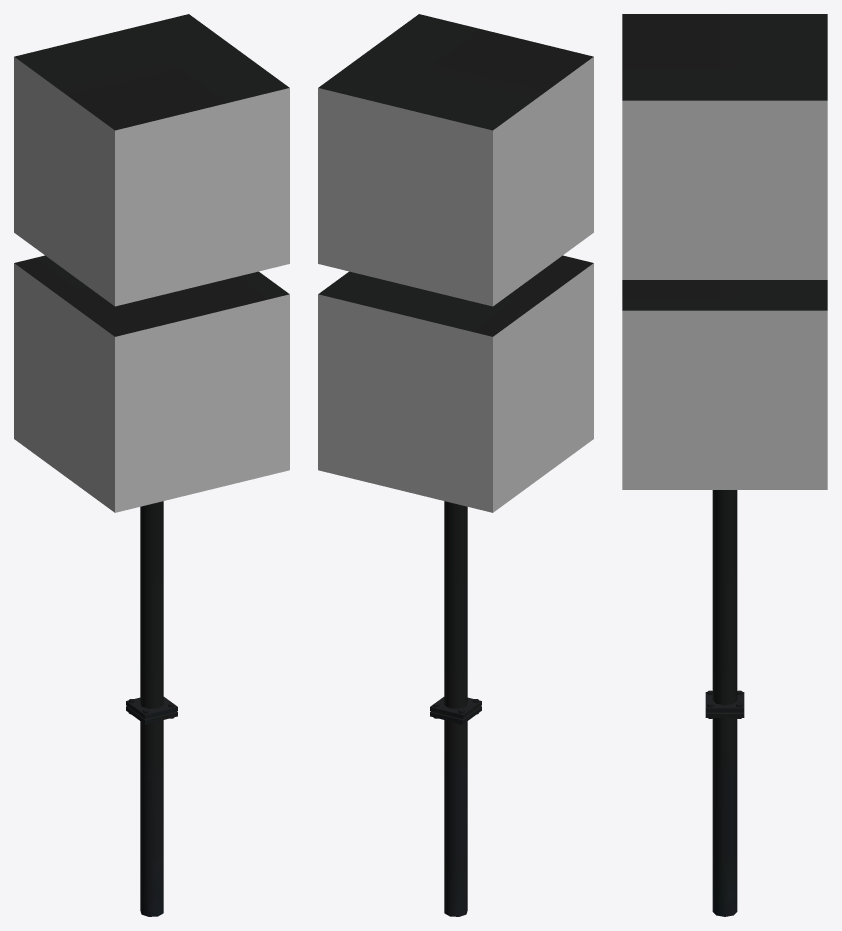
File: Outdoor-i-1.obj
3 views of the same model, side by side, from view 1: azimuth 30°, elevation 25°; view 2: azimuth 150°, elevation 25°; view 3: azimuth 270°, elevation 25° (orthographic).
Parts seen in each view (by area): view 1: Outdoor-I_Cube.010; view 2: Outdoor-I_Cube.010; view 3: Outdoor-I_Cube.010.
Part boxes in pixels (x1=…): Outdoor-I_Cube.010: x1=14, y1=14, x2=289, y2=916; Outdoor-I_Cube.010: x1=318, y1=14, x2=593, y2=916; Outdoor-I_Cube.010: x1=622, y1=14, x2=827, y2=916.
Size of the model in its own units: 3.6 by 16.52 by 3.6.
